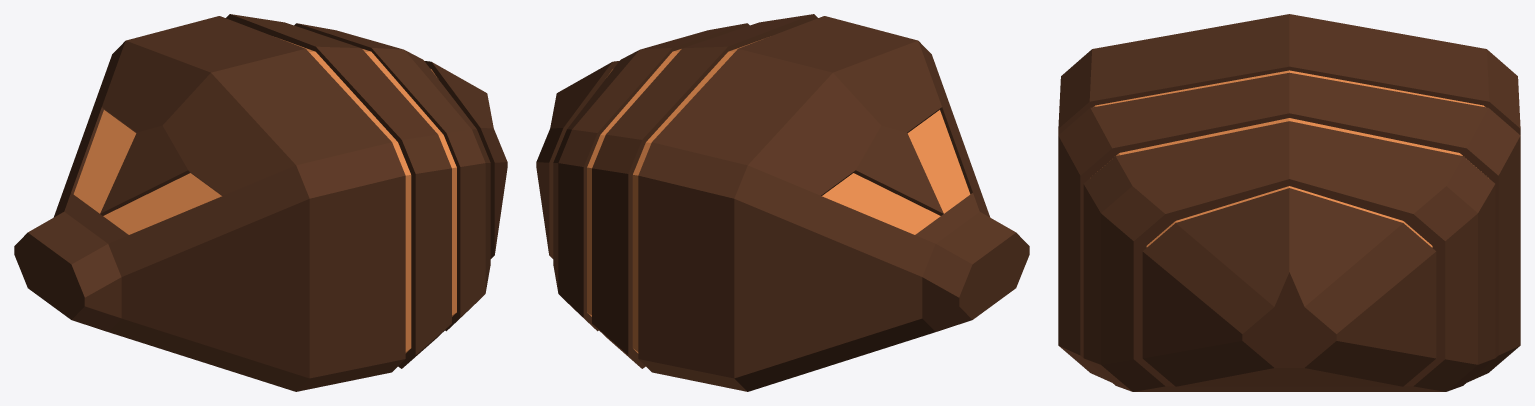
The model's file is Abdomen.fbx.
3 renders of one model, left to right at view 1: azimuth 30°, elevation 25°; view 2: azimuth 150°, elevation 25°; view 3: azimuth 270°, elevation 25°, orthographic. The views are drawn at different scales.
Parts seen in each view (by area): view 1: Abdomen; view 2: Abdomen; view 3: Abdomen.
Part boxes in pixels (x1,y1,x2,y2): Abdomen: (14,14,507,391); Abdomen: (536,14,1029,391); Abdomen: (1058,14,1520,391).
Bounding box in the file's own units: 393 × 497 × 283.
